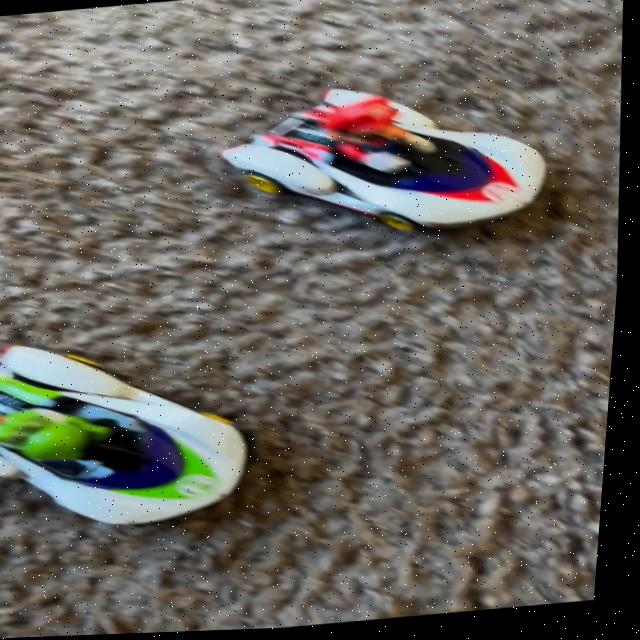mario: (196, 54, 593, 276)
yoshi: (0, 332, 300, 558)
